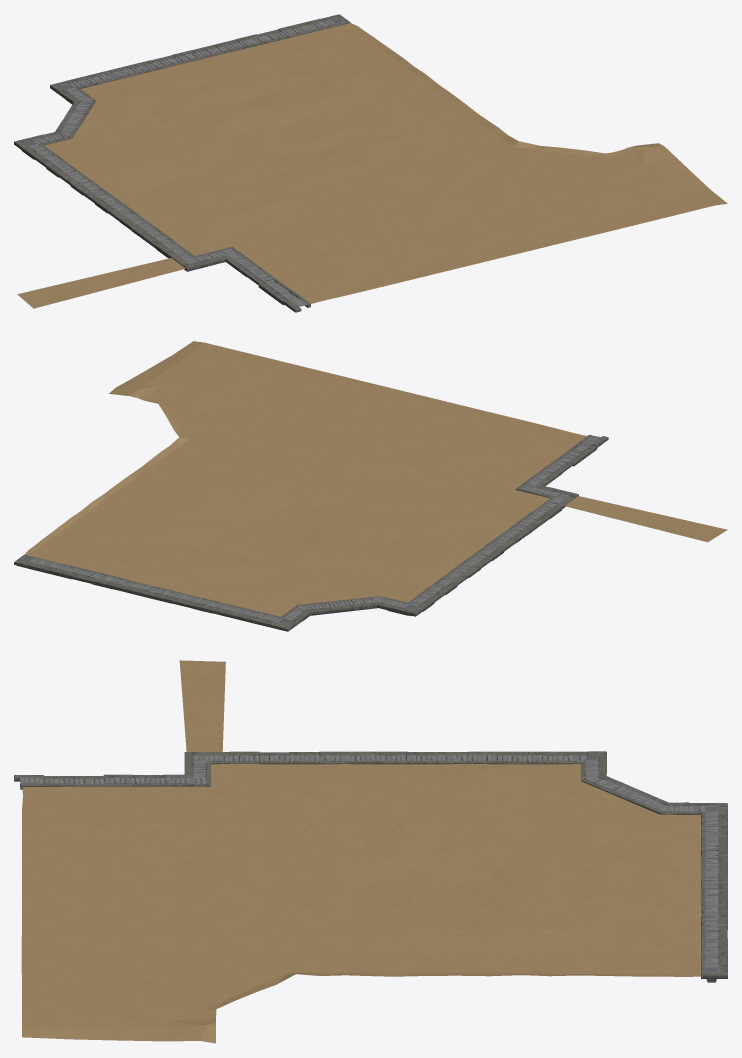
Rendered from konohavill_ground_01.fbx.
3 renders of one model, top to bottom at view 1: azimuth 30°, elevation 25°; view 2: azimuth 150°, elevation 25°; view 3: azimuth 270°, elevation 25°, orthographic. The views are drawn at different scales.
Parts seen in each view (by area): view 1: SM_ENV_KNVLLG_ground_01.mo; view 2: SM_ENV_KNVLLG_ground_01.mo; view 3: SM_ENV_KNVLLG_ground_01.mo.
Boxes of the visible parts, x1=… form: SM_ENV_KNVLLG_ground_01.mo: x1=14, y1=14, x2=727, y2=312; SM_ENV_KNVLLG_ground_01.mo: x1=14, y1=341, x2=727, y2=631; SM_ENV_KNVLLG_ground_01.mo: x1=14, y1=660, x2=727, y2=1043.
Size of the model in its own units: 6770 by 94.67 by 5358.
